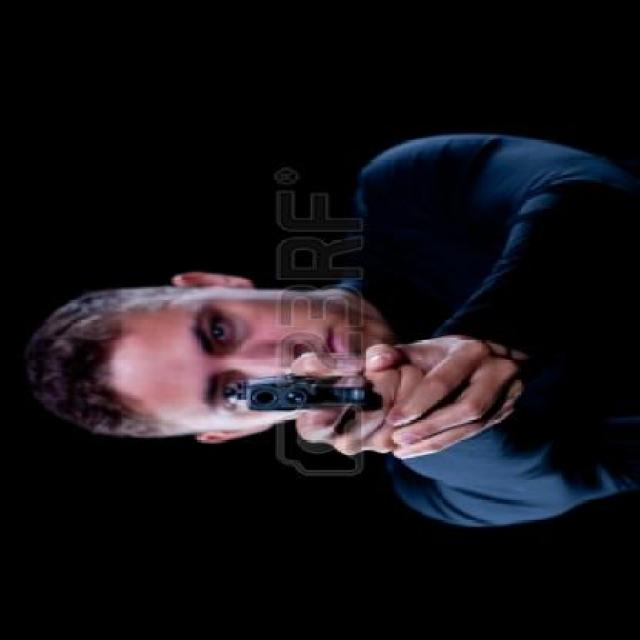pistol: (237, 371, 376, 413)
